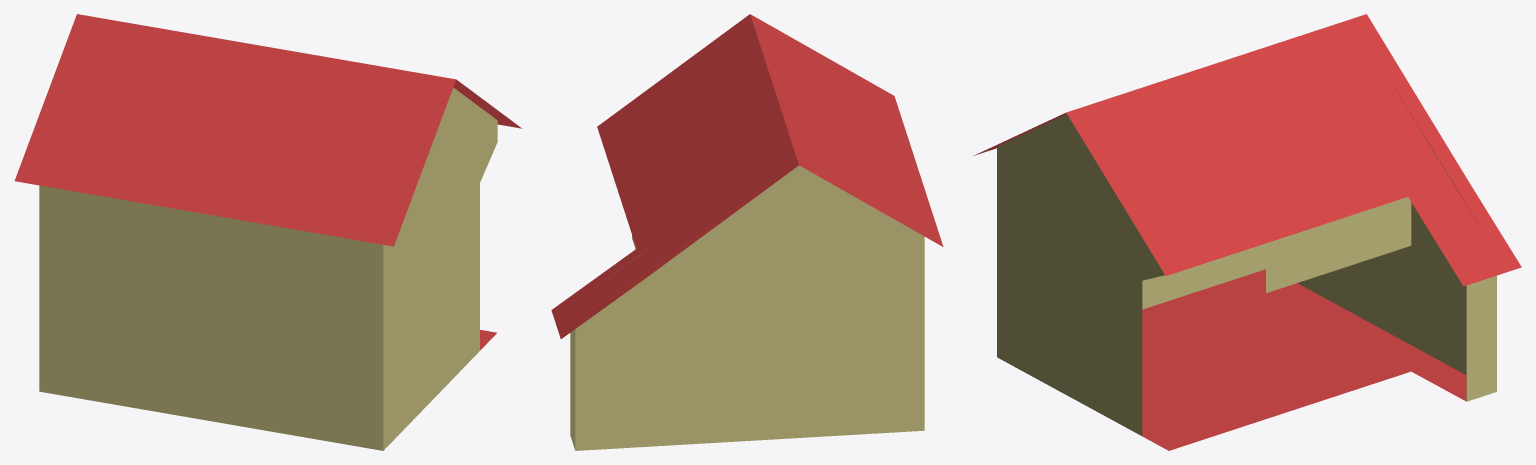
3 renders of one model, left to right at view 1: azimuth 30°, elevation 25°; view 2: azimuth 150°, elevation 25°; view 3: azimuth 270°, elevation 25°, orthographic. The views are drawn at different scales.
Bounding box in the file's own units: 20.35 × 23.17 × 13.7.
